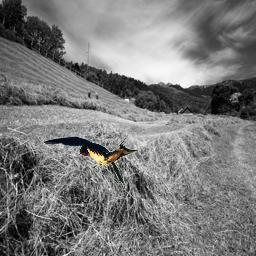Swallow: (41, 131, 157, 191)
